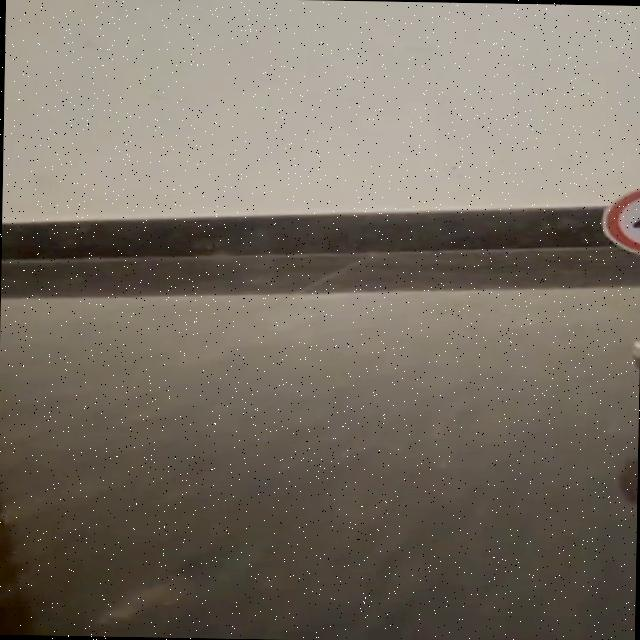Speed40: (595, 177, 640, 257)
